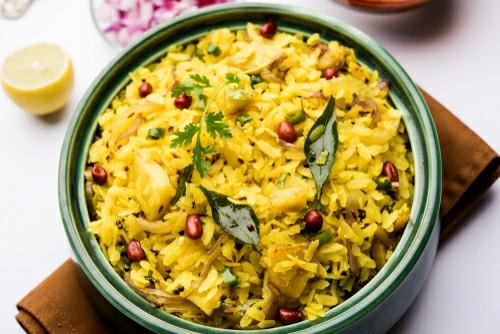Poha: (79, 20, 418, 332)
